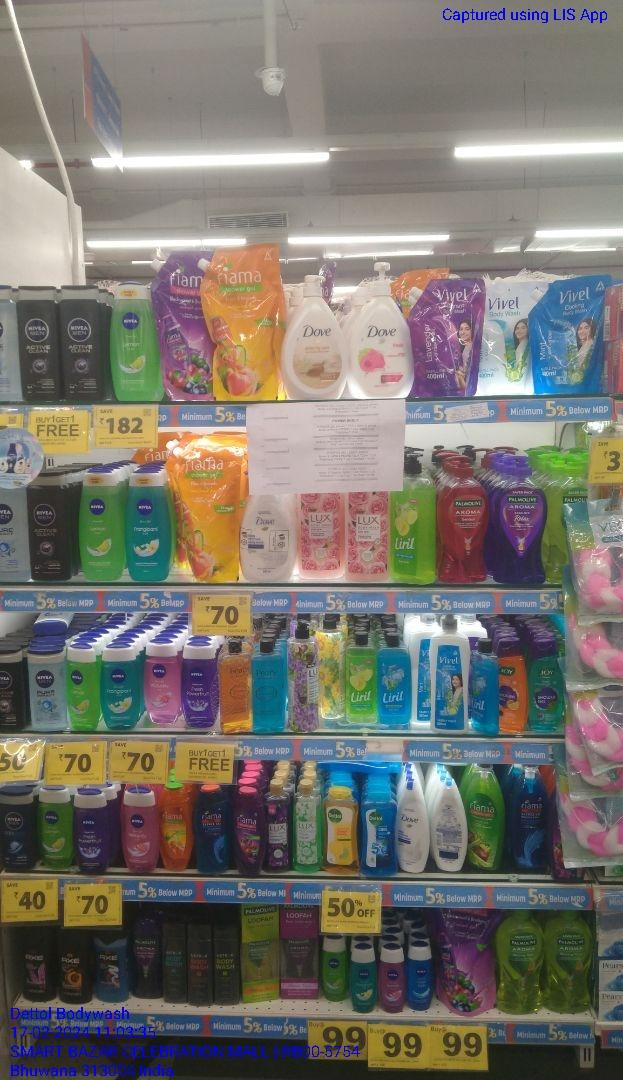Dettol_Bodywash_Cool: (361, 790, 398, 876)
Dettol_Bodywash_Refresh: (324, 791, 360, 874)
Fiama_Shower_Gel_Peach_and_Avocado_250ML: (160, 786, 192, 872)
Joy_Shower_Gel_Mandarin_and_Lemongrass_250ML: (499, 638, 527, 733)
Joy_Shower_Gel_Mint_and_Eucalyptus_250ML: (531, 638, 564, 733)
Liril_Cooling_Mint_Body_Wash_250ML: (381, 637, 412, 723)
Liril_Lime_and_Tea_Tree_Oil_Body_Wash_250ML: (347, 634, 379, 725)
Lux_Black_Orchid_Scent_and_Juniper_Oil_Body_Wash_245ML: (266, 784, 290, 872)
Lux_Body_Wash_Skin_Detox_Freesia_Scent_and_Alove_Vera_245ML: (294, 781, 323, 873)
Nivea_Shower_Gel_Frangipani_and_Oil_250ML: (128, 475, 171, 580), (100, 646, 138, 729)
Nivea_Shower_Gel_Fresh_Powerfruit_250ML: (182, 646, 219, 728), (75, 792, 109, 875)
Nivea_Shower_Gel_Lemon_and_Oil_250ML: (111, 284, 158, 401), (79, 474, 125, 579), (37, 788, 71, 868), (66, 646, 97, 732)
Nivea_Shower_Gel_Waterlily_and_Oil_250ML: (121, 790, 158, 870), (145, 642, 180, 725)
Pears_Pure_Glycerin_and_Mint_Extracts_Body_Wash_250ML: (249, 640, 285, 732)
